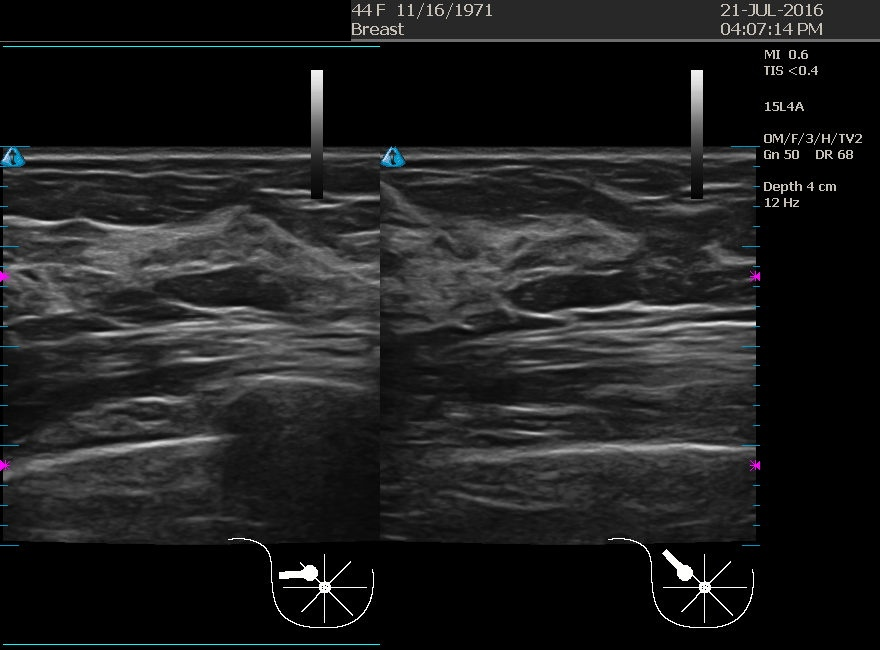Benign: (128, 216, 328, 416), (474, 211, 674, 411)
